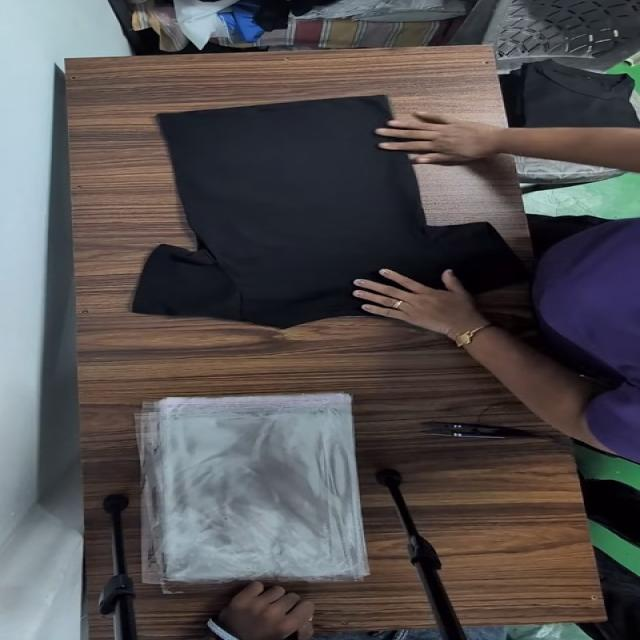new-garment: (133, 96, 519, 328)
